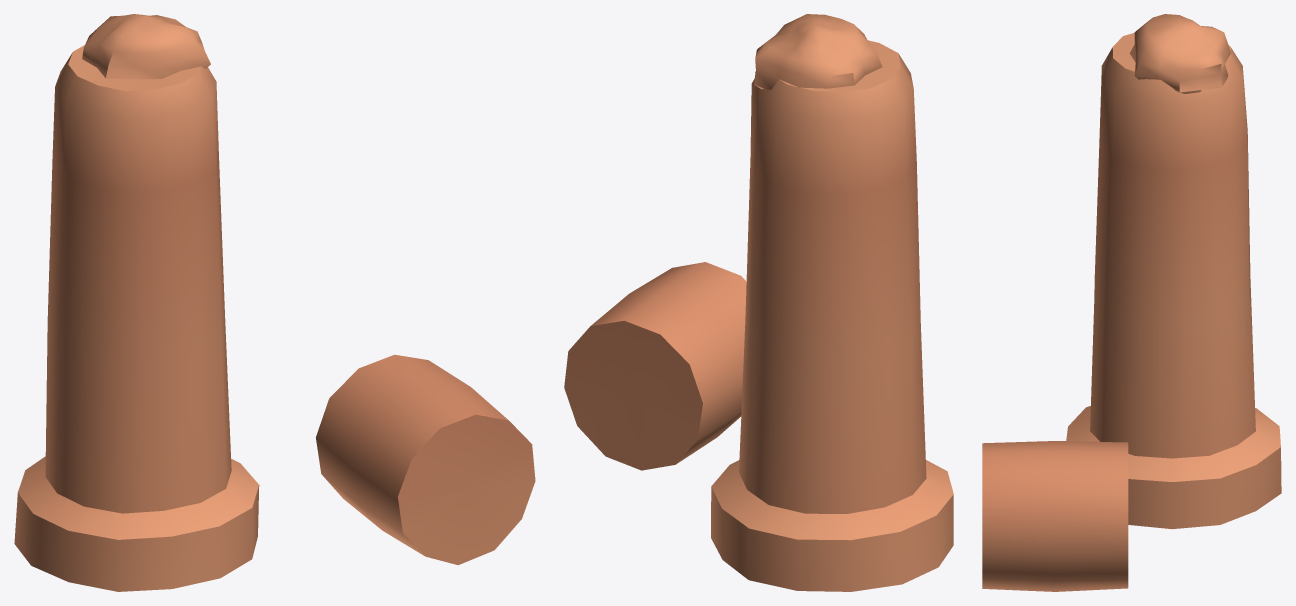
Rendered from pillar.glb.
The picture shows the model from 3 angles, left to right: view 1: azimuth 30°, elevation 25°; view 2: azimuth 150°, elevation 25°; view 3: azimuth 270°, elevation 25°; orthographic projection. The views are drawn at different scales.
Visible parts, largest first — view 1: ColunaPedra; view 2: ColunaPedra; view 3: ColunaPedra.
Boxes of the visible parts, x1=… form: ColunaPedra: x1=14, y1=14, x2=535, y2=591; ColunaPedra: x1=564, y1=14, x2=953, y2=591; ColunaPedra: x1=982, y1=14, x2=1281, y2=591.
Bounding box in the file's own units: 2.86 × 3.54 × 2.05.
